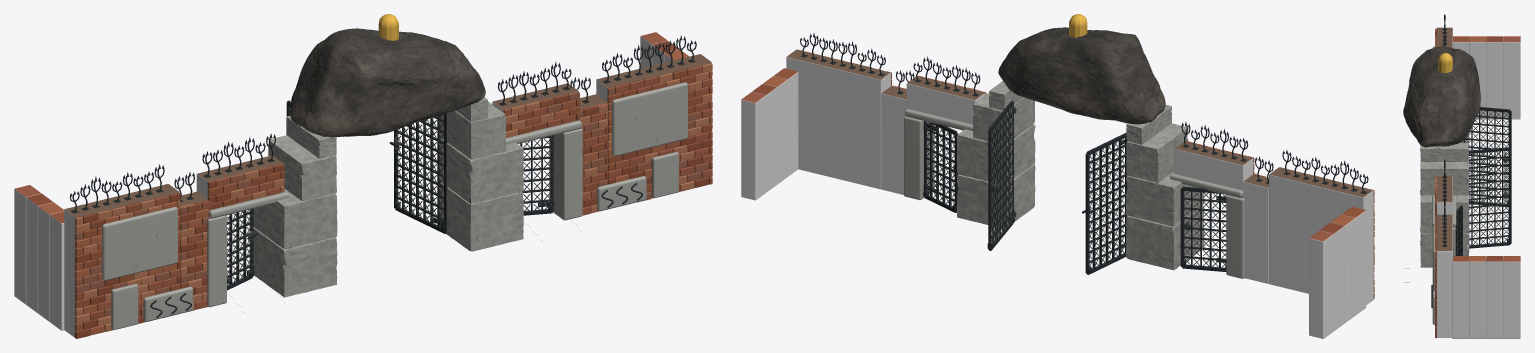
File: malai-vasal-day-v2.glb
The picture shows the model from 3 angles, left to right: view 1: azimuth 30°, elevation 25°; view 2: azimuth 150°, elevation 25°; view 3: azimuth 270°, elevation 25°; orthographic projection. The views are drawn at different scales.
Visible parts, largest first — view 1: MalaiVasal_Walls, MalaiVasal_GraniteSupports, MalaiVasal_Boulder, MalaiVasal_Metalwork, MalaiVasal_StoneDetails; view 2: MalaiVasal_Walls, MalaiVasal_Metalwork, MalaiVasal_GraniteSupports, MalaiVasal_Boulder, MalaiVasal_StoneDetails; view 3: MalaiVasal_Walls, MalaiVasal_Boulder, MalaiVasal_Metalwork, MalaiVasal_GraniteSupports, MalaiVasal_StoneDetails, MalaiVasal_Finial.
Boxes of the visible parts, <box> form: MalaiVasal_Walls: <box>14,32,712,338</box>; MalaiVasal_GraniteSupports: <box>253,97,523,297</box>; MalaiVasal_Boulder: <box>290,28,485,137</box>; MalaiVasal_Metalwork: <box>69,35,696,317</box>; MalaiVasal_StoneDetails: <box>108,28,679,321</box>; MalaiVasal_Walls: <box>741,49,1374,338</box>; MalaiVasal_Metalwork: <box>800,33,1368,274</box>; MalaiVasal_GraniteSupports: <box>956,81,1204,270</box>; MalaiVasal_Boulder: <box>998,27,1165,124</box>; MalaiVasal_StoneDetails: <box>940,27,1212,246</box>; MalaiVasal_Walls: <box>1432,27,1520,338</box>; MalaiVasal_Boulder: <box>1403,46,1480,147</box>; MalaiVasal_Metalwork: <box>1431,14,1511,308</box>; MalaiVasal_GraniteSupports: <box>1420,132,1469,267</box>; MalaiVasal_StoneDetails: <box>1403,46,1480,282</box>; MalaiVasal_Finial: <box>1438,53,1452,73</box>.
Bounding box in the file's own units: 17.21 × 6.18 × 3.79.
19 materials, 2 textured.
